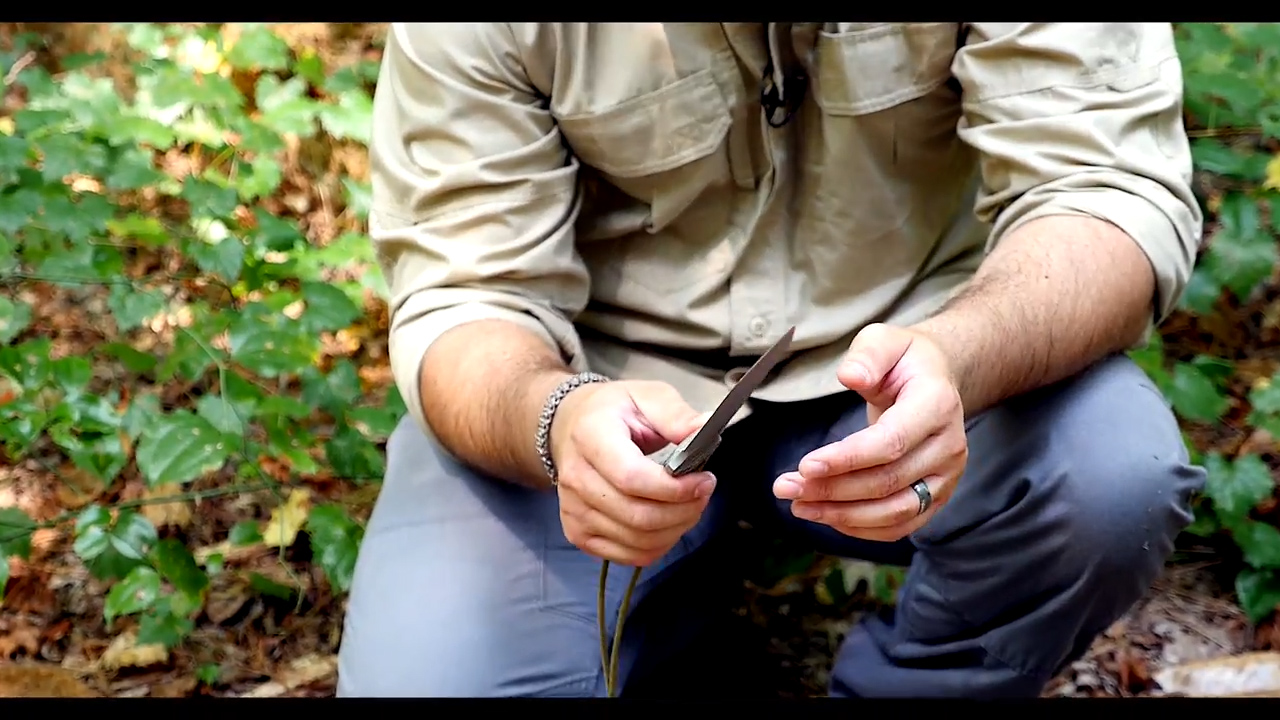knife: (562, 321, 802, 551)
